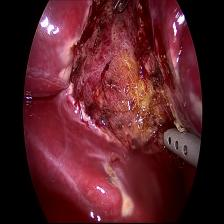Grasper: (109, 0, 133, 18)
Irrigator: (162, 121, 200, 173)
